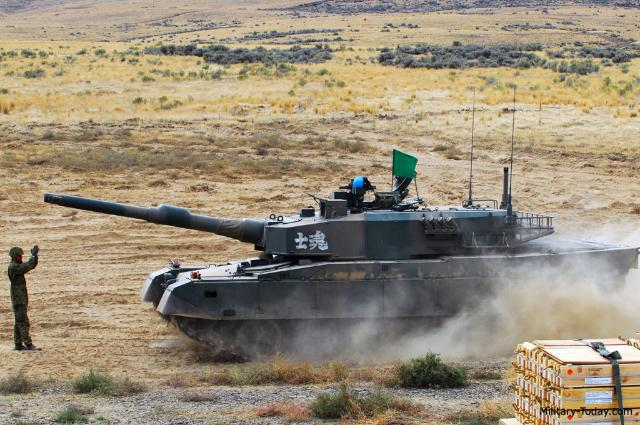other: (7, 241, 41, 349)
tank: (161, 177, 639, 342)
